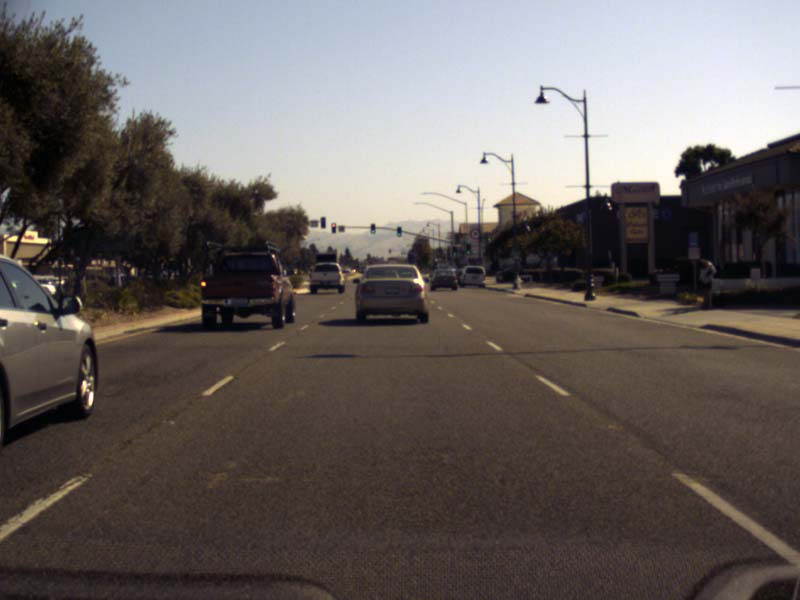Green: (451, 246, 457, 256), (465, 243, 470, 254), (370, 223, 375, 234), (396, 226, 401, 236)
Red: (330, 223, 335, 233)
